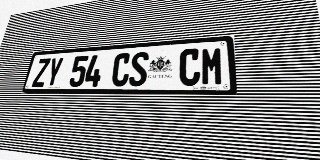4: (84, 54, 104, 87)
5: (69, 56, 89, 87)
C: (179, 48, 200, 86), (111, 53, 132, 86)
M: (201, 46, 224, 86)
S: (128, 51, 149, 86)
Y: (44, 57, 64, 87)
Z: (31, 58, 51, 87)
